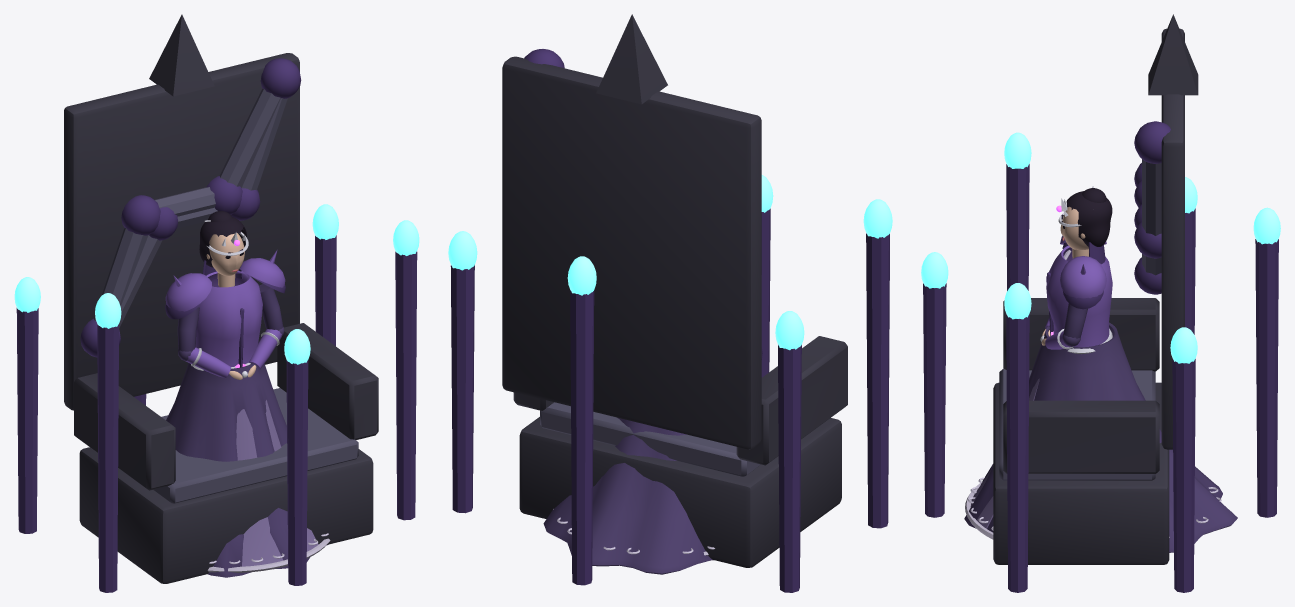
File: sachse.glb
The picture shows the model from 3 angles, left to right: view 1: azimuth 30°, elevation 25°; view 2: azimuth 150°, elevation 25°; view 3: azimuth 270°, elevation 25°; orthographic projection. The views are drawn at different scales.
Parts seen in each view (by area): view 1: sac_throne, sac_body; view 2: sac_throne, sac_body; view 3: sac_throne, sac_body.
Boxes of the visible parts, x1,y1,x2,y2 form: sac_throne: [14, 14, 419, 592]; sac_body: [165, 211, 330, 577]; sac_throne: [448, 14, 892, 592]; sac_body: [543, 417, 714, 574]; sac_throne: [921, 14, 1280, 592]; sac_body: [964, 186, 1237, 552].
Bounding box in the file's own units: 1.96 × 2.82 × 1.84.
